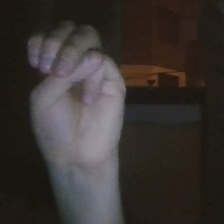M: (17, 13, 141, 184)
